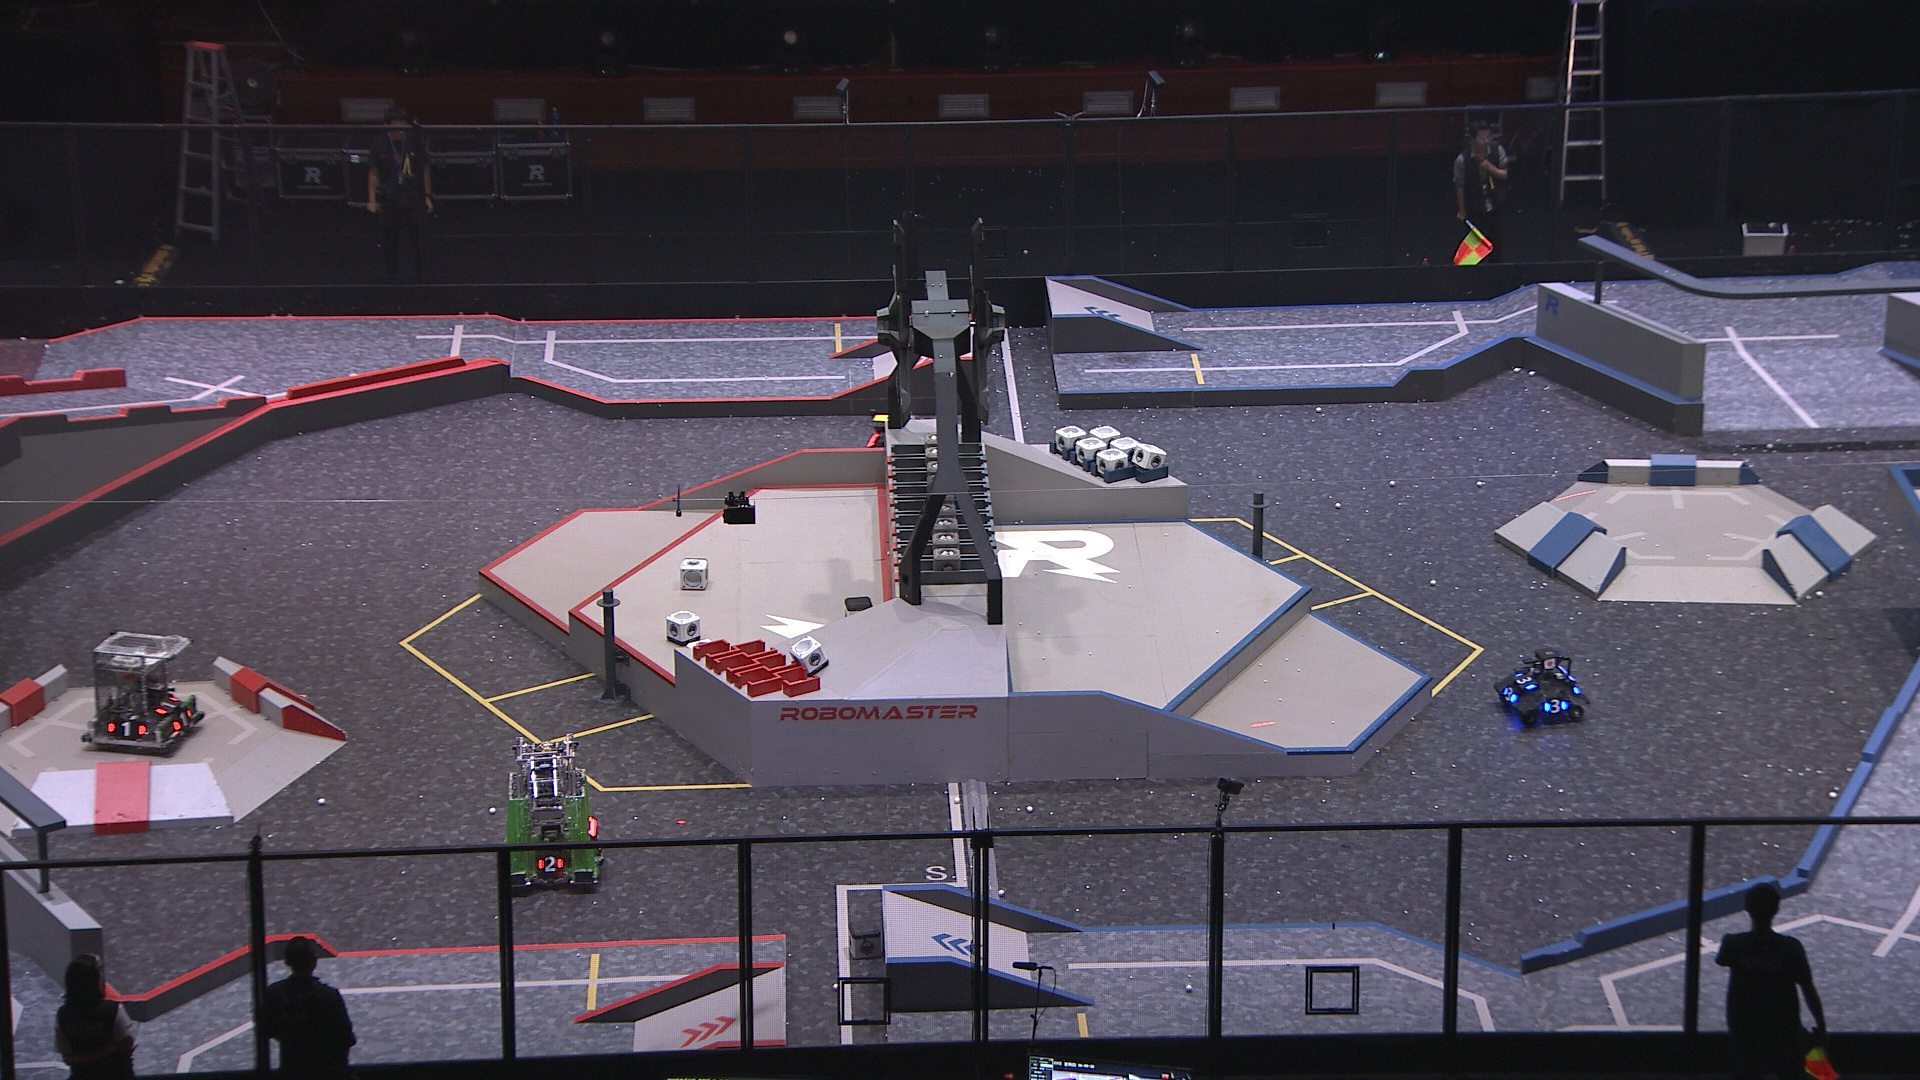armor: (105, 721, 146, 740), (153, 692, 181, 717), (1513, 670, 1542, 692), (534, 855, 564, 874), (1542, 698, 1569, 716), (171, 707, 193, 731), (1499, 684, 1520, 704)
car: (495, 735, 605, 891), (76, 629, 210, 756), (1493, 647, 1589, 731), (858, 410, 940, 479)
